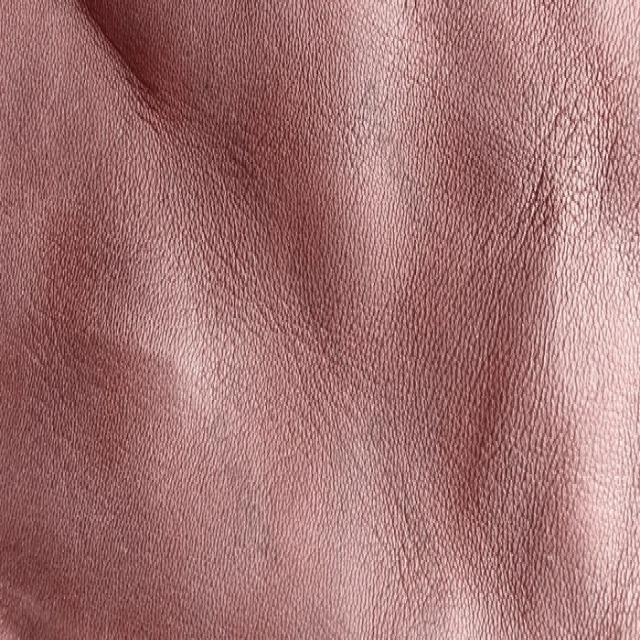Crease: (492, 252, 619, 477), (116, 287, 217, 433)
